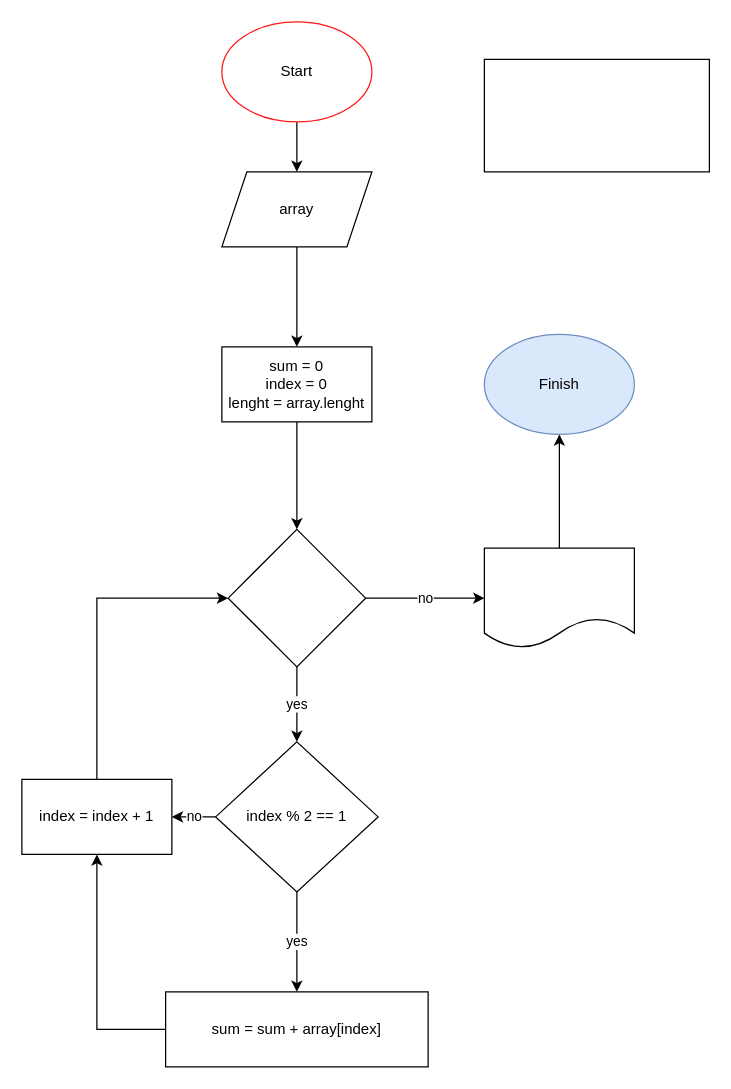
Some shapes in this 731 by 1089 pixel diagram are drawn without their labels. Here are the shapes that lost their labels. From the top down, the centre of each, then its label:
the point at 596,115: Найти сумму всех элементов массива с нечетными индексами.
the point at 296,597: index < lenght
the point at 558,597: sum
